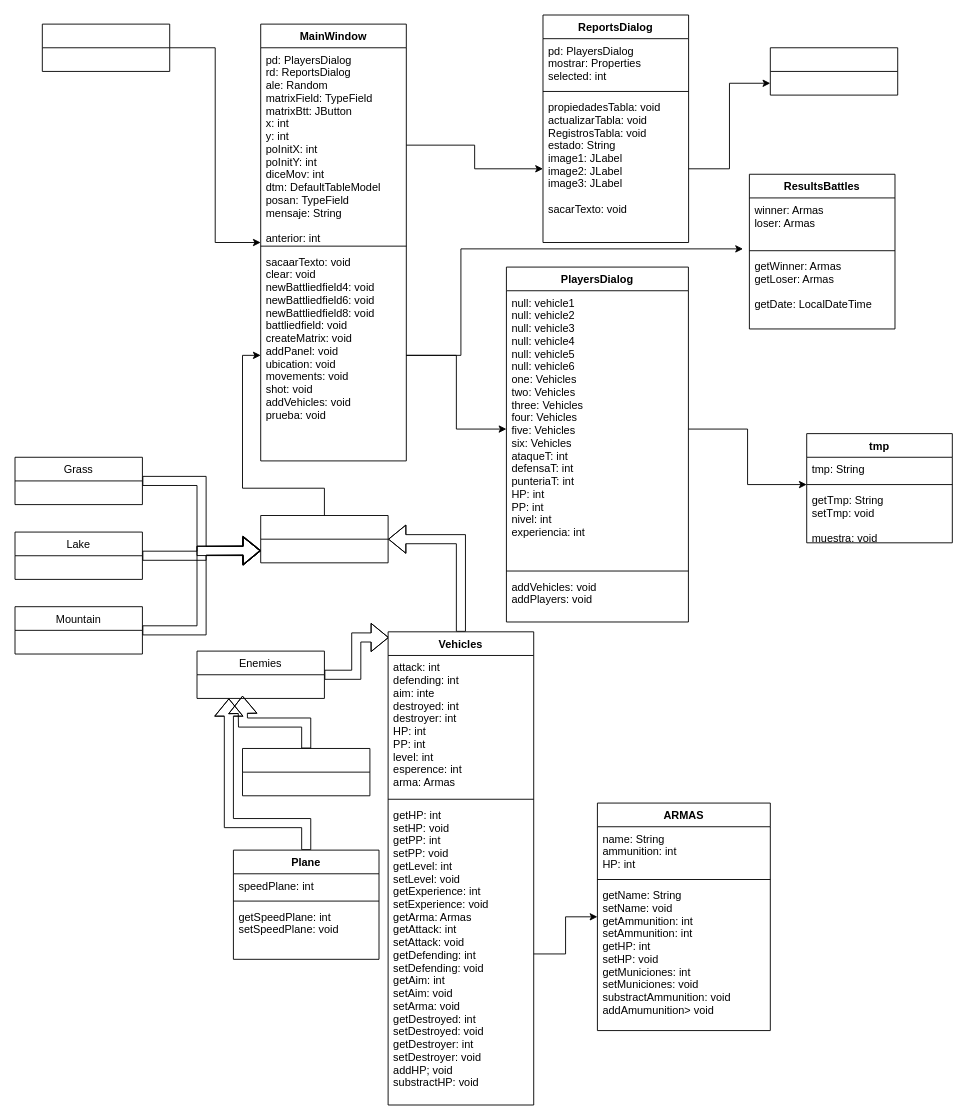
The diagram is 967 pixels wide and 1120 high, and some of its shapes have lost their labels. The shapes that lost their labels are listed below. From the top down, each one's centre as x and y in pixels, then its label:
At [105,47]: "main".
At [833,71]: "ImgTable".
At [324,539]: "TypeField".
At [306,772]: "Tank".
